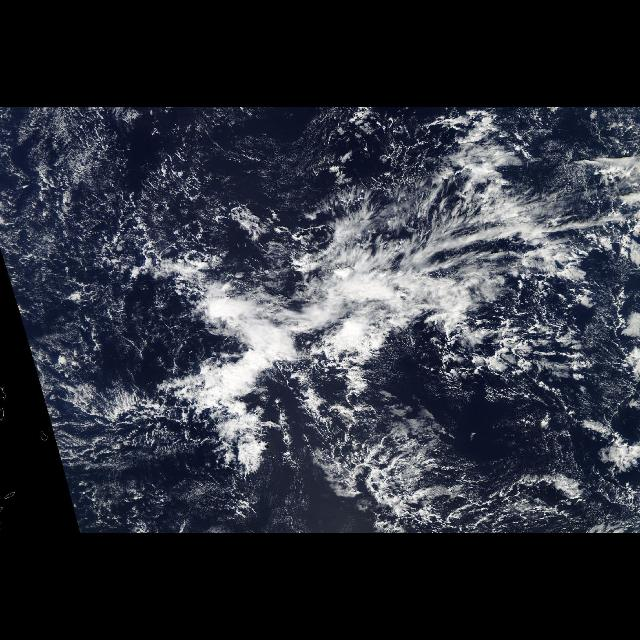Fish: (74, 140, 636, 476)
Gravel: (298, 309, 636, 529), (4, 124, 278, 294), (16, 300, 182, 470)
Sugar: (2, 107, 326, 269)
